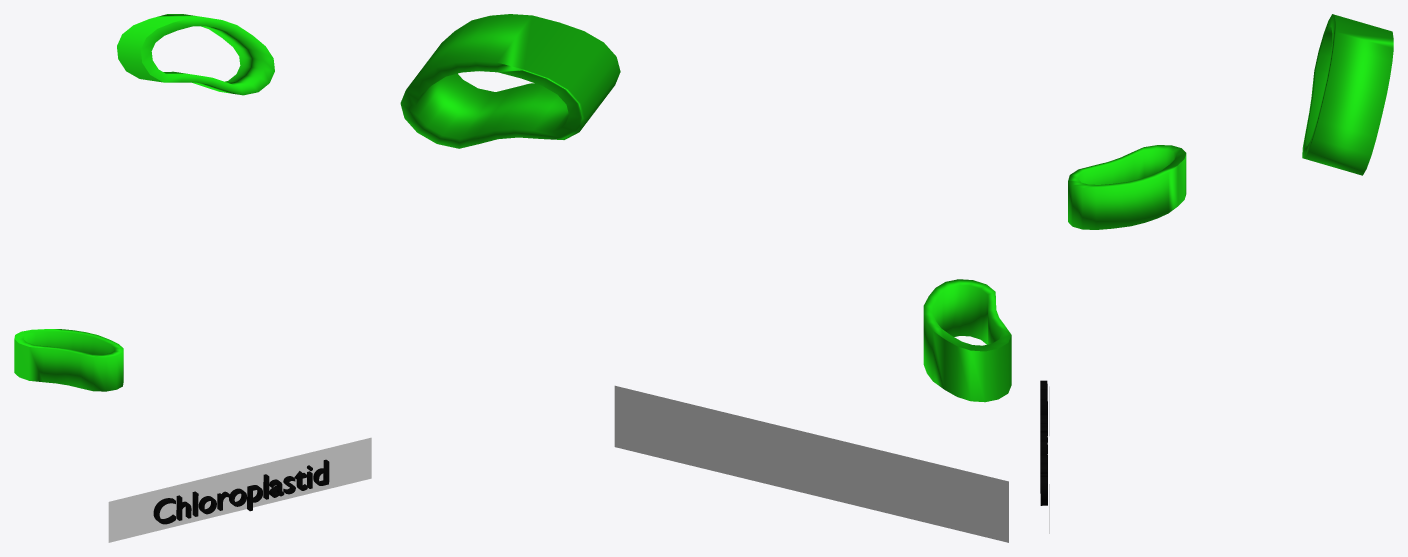
Rendered from chloroplast1.gltf.
The picture shows the model from 3 angles, left to right: view 1: azimuth 30°, elevation 25°; view 2: azimuth 150°, elevation 25°; view 3: azimuth 270°, elevation 25°; orthographic projection. The views are drawn at different scales.
Visible parts, largest first — view 1: Verde_Interno.001, Plane.039, Text.024; view 2: Verde_Interno.001, Plane.039; view 3: Verde_Interno.001, Text.024.
Part boxes in pixels (<box>): Verde_Interno.001: <box>14,14,274,391</box>; Plane.039: <box>108,437,371,542</box>; Text.024: <box>153,459,329,524</box>; Verde_Interno.001: <box>400,14,1011,402</box>; Plane.039: <box>614,385,1008,542</box>; Verde_Interno.001: <box>1068,14,1393,229</box>; Text.024: <box>1040,380,1047,505</box>.
Size of the model in its own units: 1.97 by 2.31 by 1.56.
